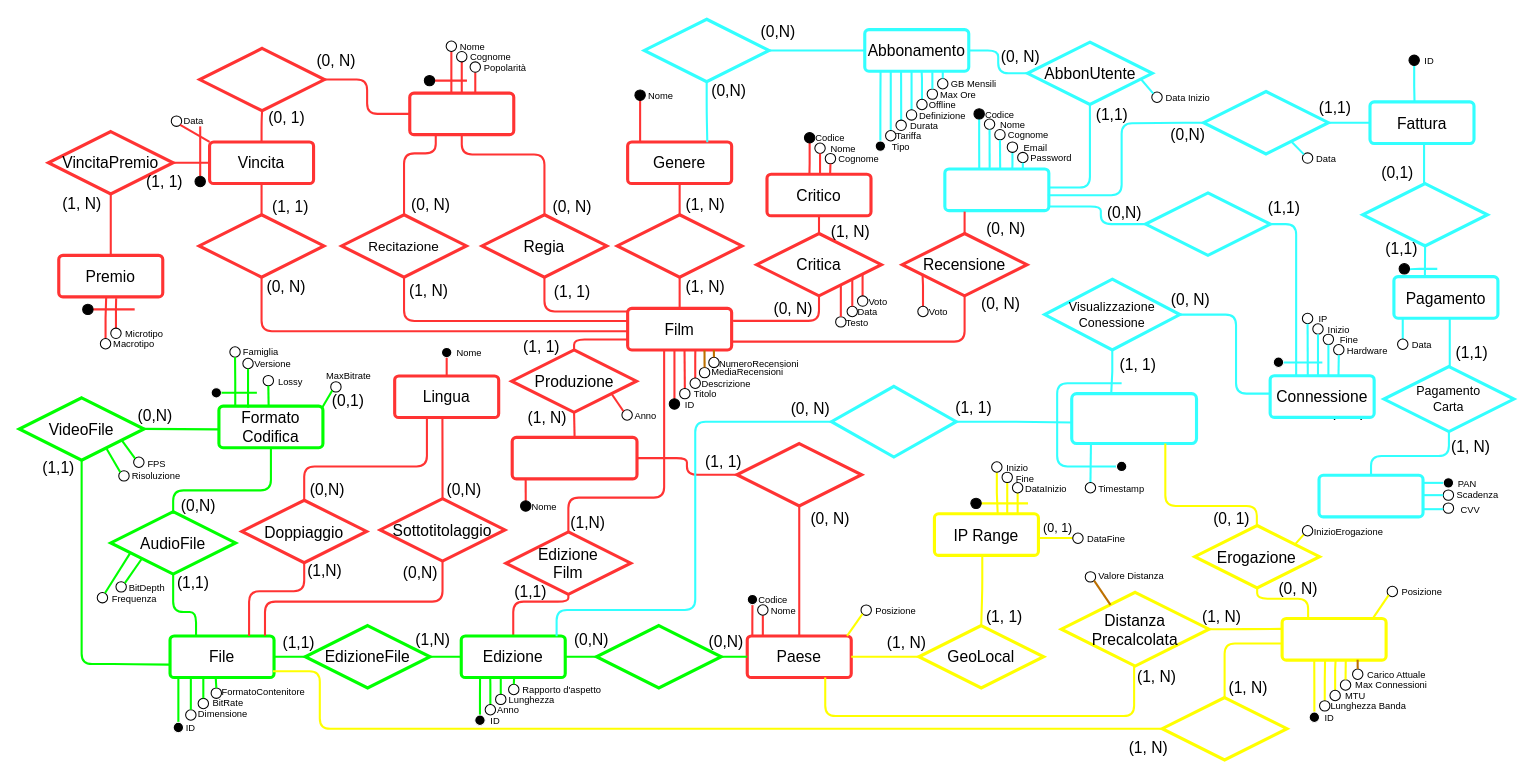
Some shapes in this 1534 by 781 pixel diagram are drawn without their labels. The centre of each missing label's shape, as x and y in pixels:
"Appartenenza" goes at [799,474].
"Artista" goes at [461,113].
"Carta di Credito" goes at [1370,495].
"CasaProduzione" goes at [574,457].
"ConnUtente" goes at [1207,223].
"Emissione" goes at [1265,122].
"Esclusione" goes at [706,50].
"GenereFilm" goes at [679,245].
"P.o.P" goes at [1224,728].
"Pagamento Fattura" goes at [1425,214].
"Restrizione" goes at [658,656].
"Server" goes at [1333,638].
"Utente" goes at [996,189].
"VincitaArtista" goes at [262,79].
"VincitaFilm" goes at [261,245].
"Visualizzazione" goes at [1134,418].
"Visualizzazione Edizione" goes at [893,421].
